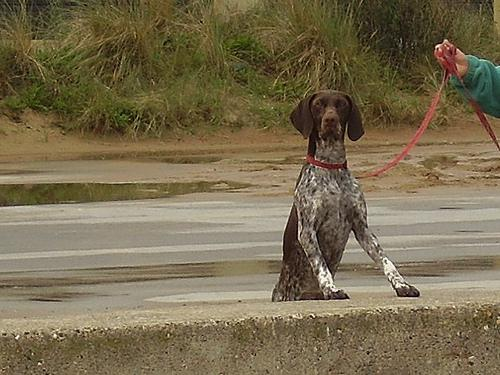dog-german_shorthaired: (288, 88, 363, 139)
